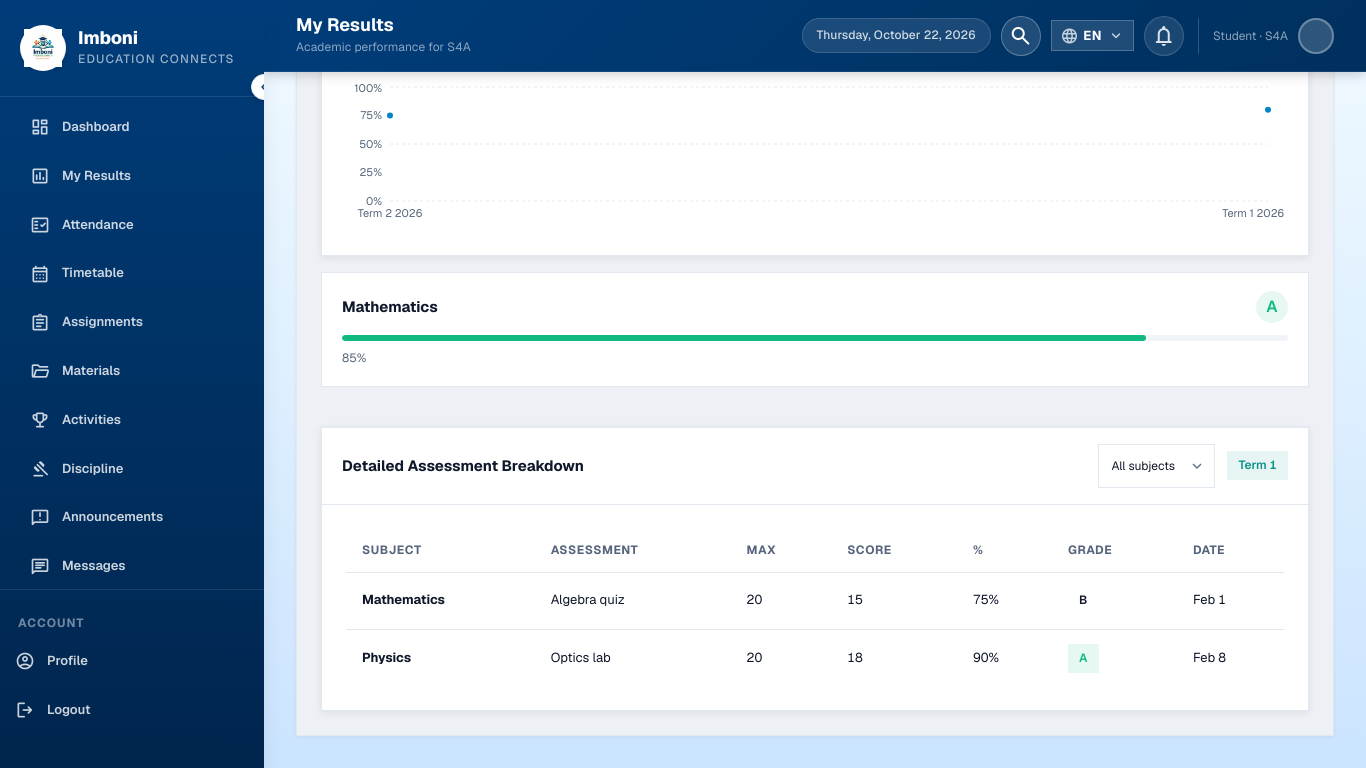
Test: StudentResults › shows only the selected term's assessments and can narrow them to one subject
(page scrolled)
Expected: the text "Algebra quiz" is shown, [535,572,731,630]
Expected: the text "Essay" is not shown
Select "Physics" in the dropdown named "Subject" at (1157, 466), box [1098,444,1215,488]
(page scrolled)
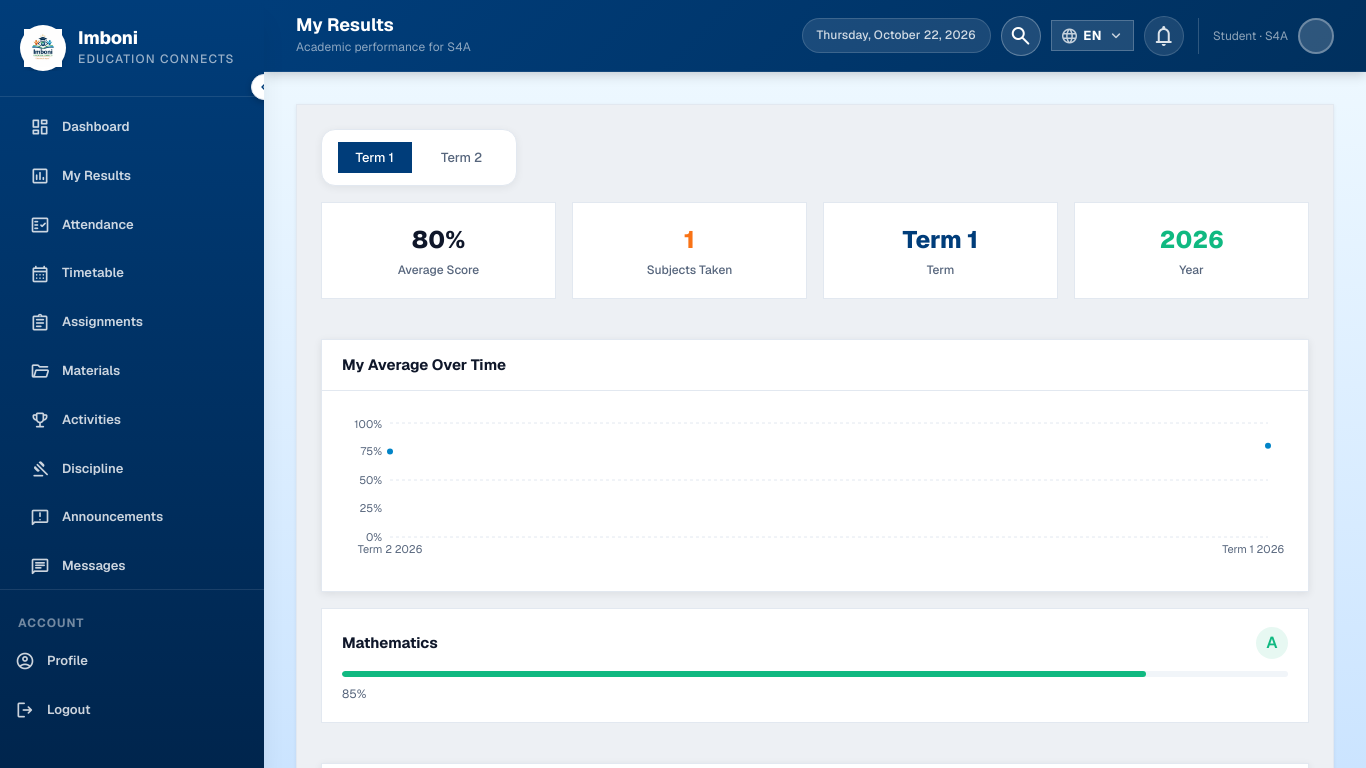
Now the text "Algebra quiz" is gone
Click the button "Term 2" at (462, 158), box [424,142,500,173]
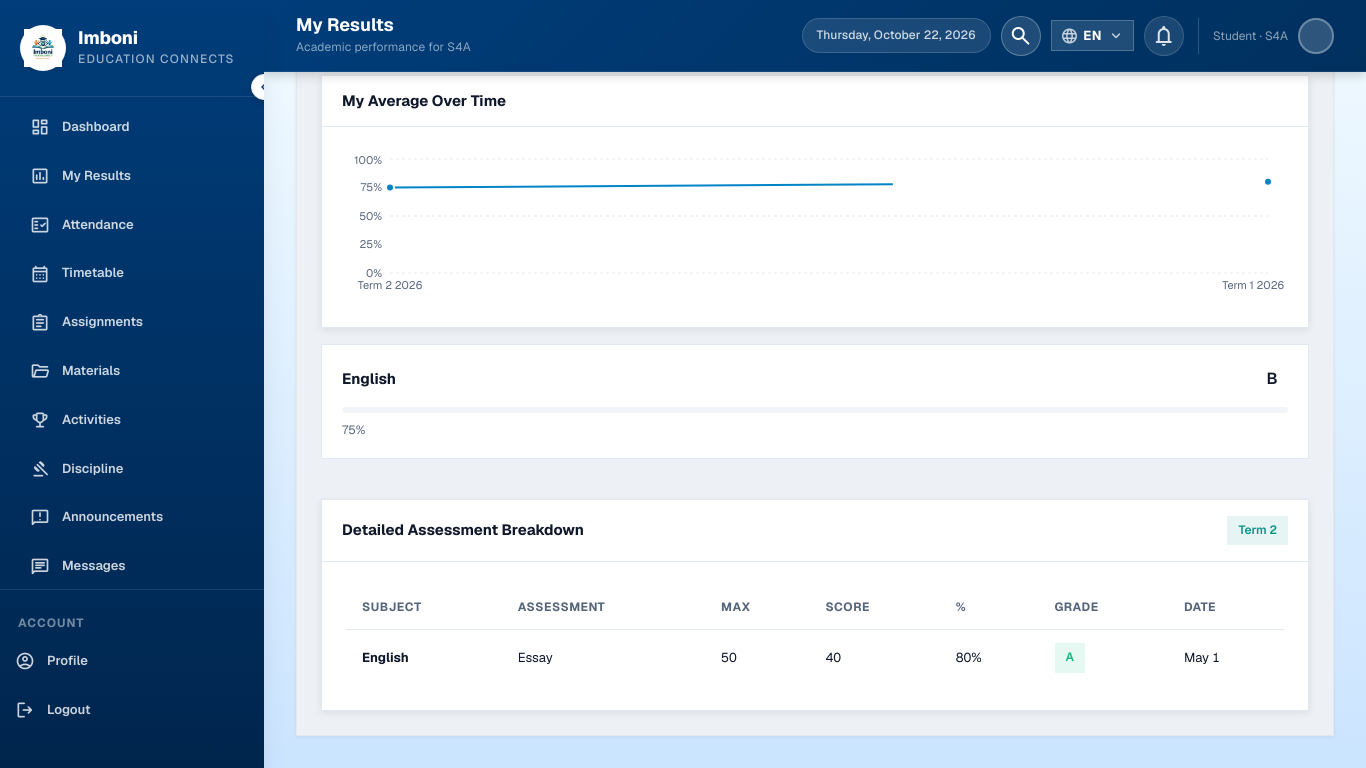
Expected: the text "Optics lab" is not shown
Now the text "Essay" is shown, box [502,629,705,686]
